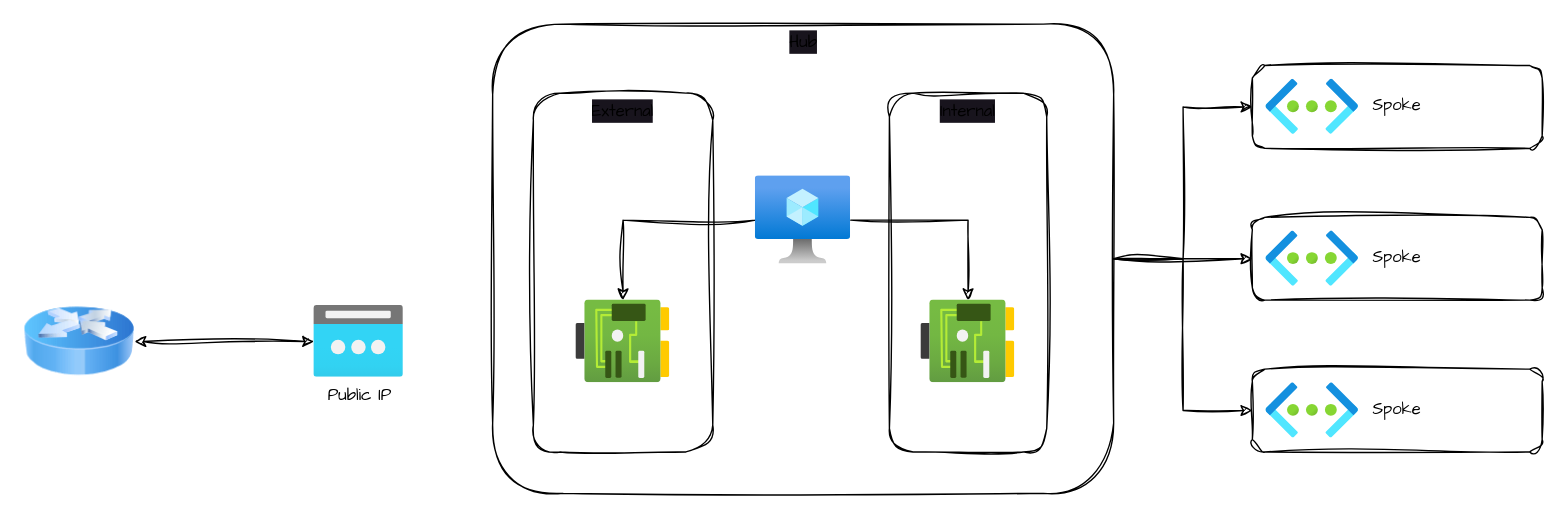
This 1566x518 diagram has some shape labels left out. The centre of each missing label's shape, as x and y in pixels:
External 10.42.1.4: the point at 622,340
Internal 10.42.2.4: the point at 967,340
opensense: the point at 802,219
Unifi USG: the point at 78,341
